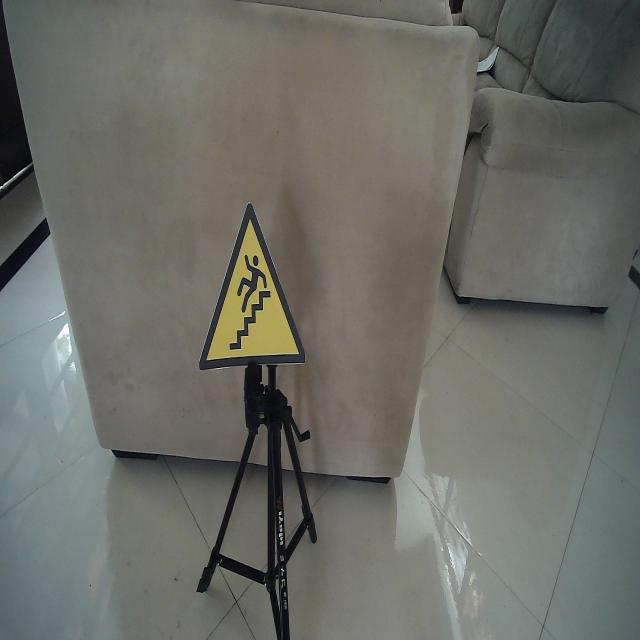stairs: (197, 198, 307, 374)
